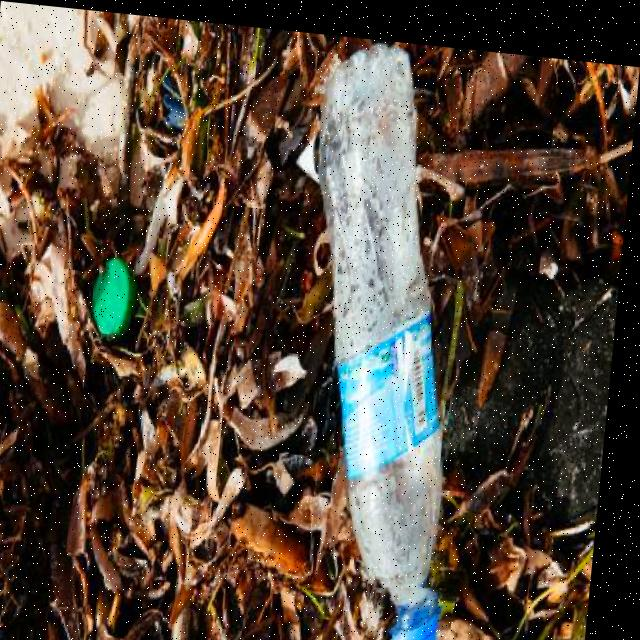litter: (367, 568, 465, 640)
